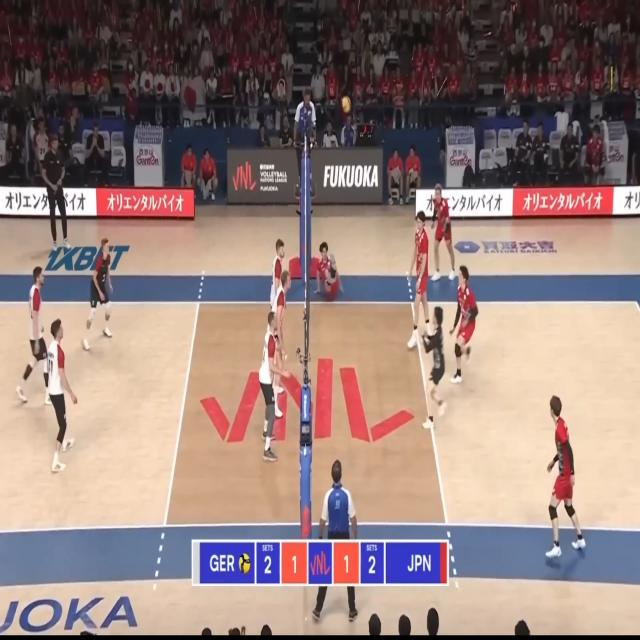ball: (342, 95, 351, 114)
